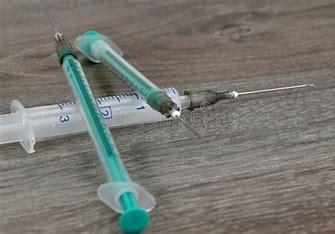Syringe: (50, 30, 176, 234), (4, 80, 318, 161)
